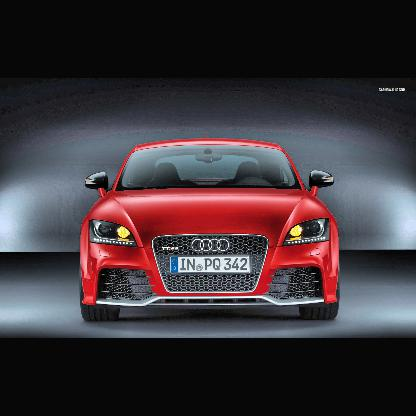Audi TT RS Coupe 2012: (79, 138, 343, 327)
